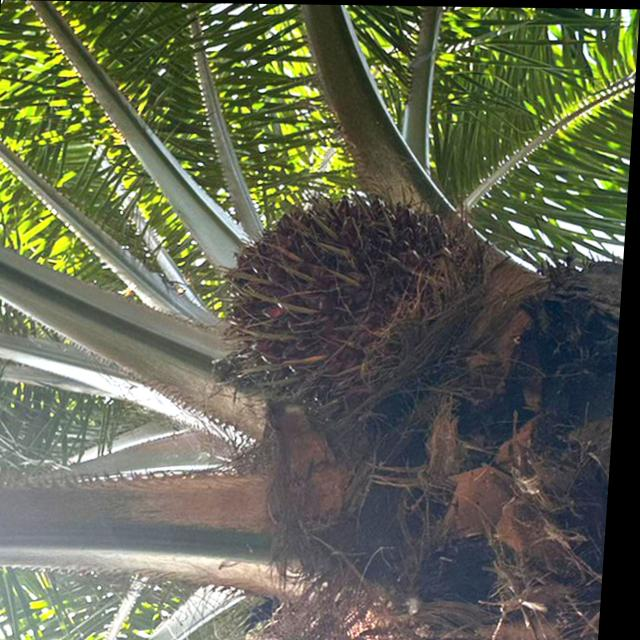ripe: (199, 172, 503, 434)
